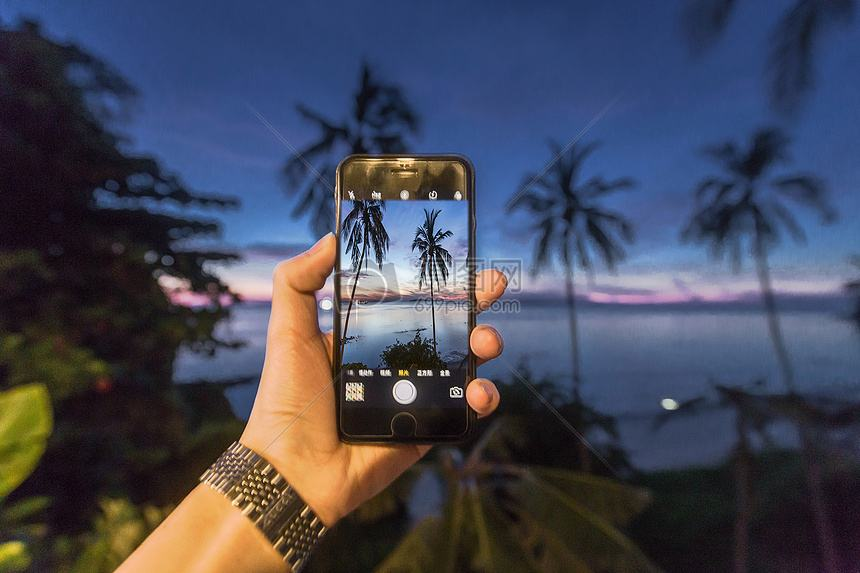taking photos: (248, 148, 512, 527)
